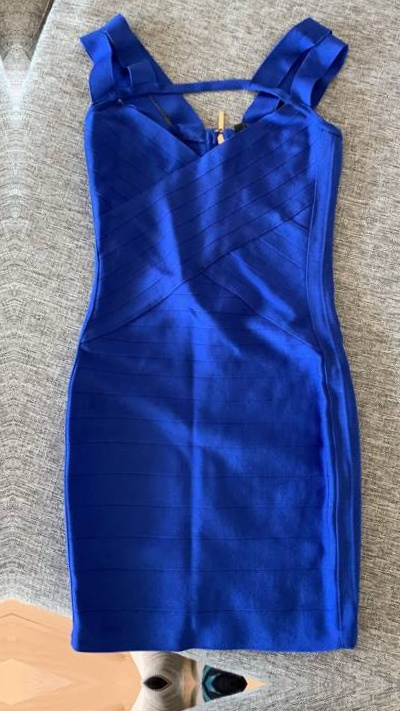Dress: (32, 4, 394, 660), (26, 708, 388, 711)
